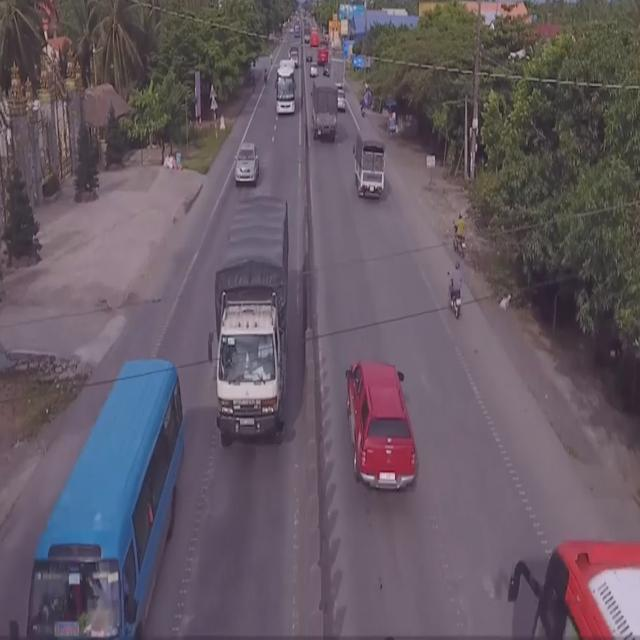bus: (19, 354, 186, 640), (509, 532, 640, 640), (275, 58, 297, 115)
car: (345, 359, 417, 492), (233, 140, 259, 187)
motorbike: (446, 265, 465, 323), (452, 213, 468, 261)
truck: (216, 185, 292, 425), (309, 78, 342, 145), (354, 134, 386, 201)
